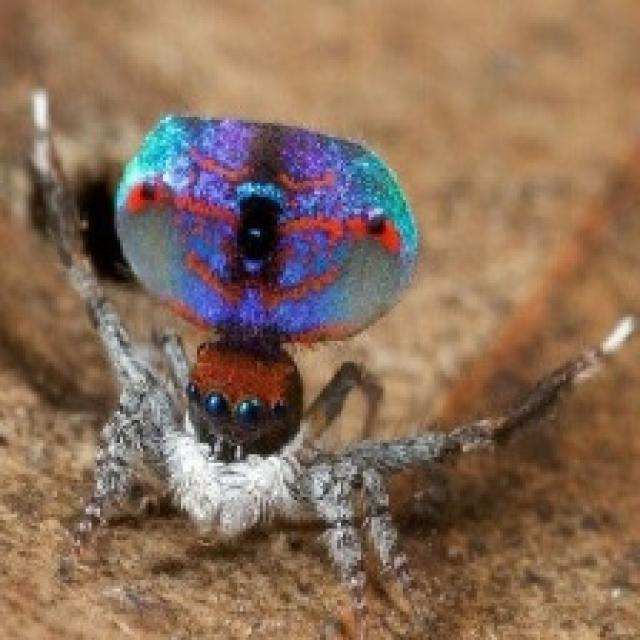Non venomous spider: (24, 69, 627, 606)
